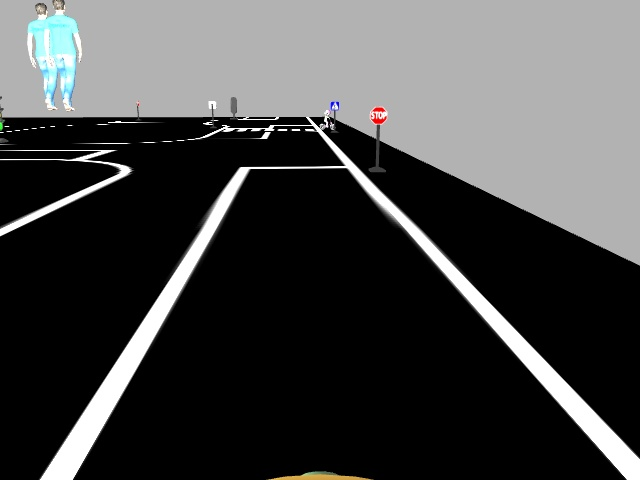Stop: (370, 106, 388, 125)
